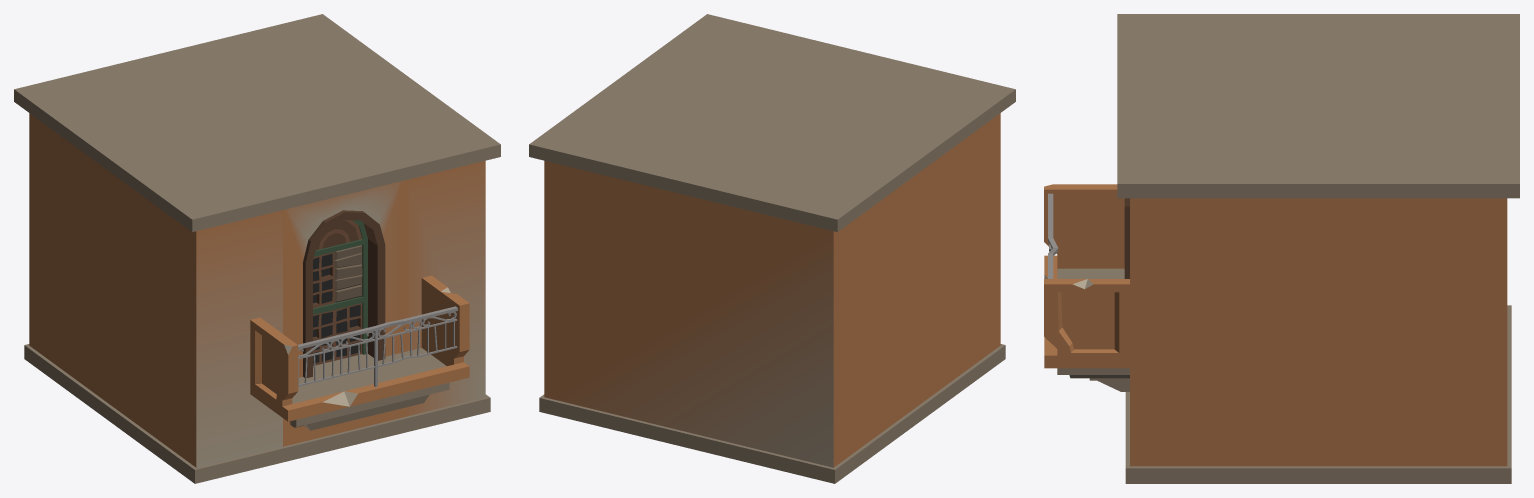
The model's file is SM_Bld_Cuba_Room_07.glb.
The picture shows the model from 3 angles, left to right: view 1: azimuth 30°, elevation 25°; view 2: azimuth 150°, elevation 25°; view 3: azimuth 270°, elevation 25°; orthographic projection. The views are drawn at different scales.
Parts seen in each view (by area): view 1: SM_Bld_Cuba_Room_07; view 2: SM_Bld_Cuba_Room_07; view 3: SM_Bld_Cuba_Room_07.
Boxes of the visible parts, x1,y1,x2,y2 form: SM_Bld_Cuba_Room_07: [14, 14, 500, 483]; SM_Bld_Cuba_Room_07: [529, 14, 1015, 483]; SM_Bld_Cuba_Room_07: [1044, 14, 1519, 483].
Size of the model in its own units: 0.04 by 0.0333 by 0.0473.
